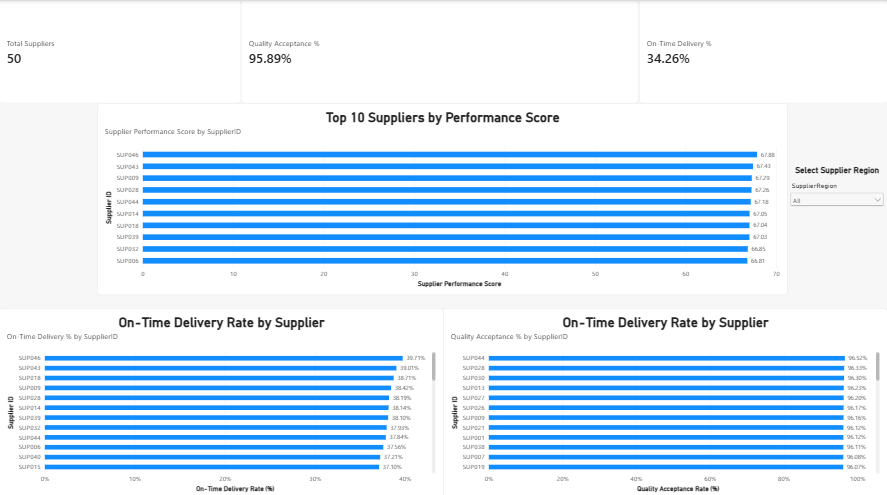

This screenshot's page, from the dashboard's own definition file:
{"tool":"powerbi","page":{"name":"Supplier Performance","canvas":[1920,1080],"ordinal":1},"visuals":[{"type":"cardVisual","fields":{"Data":["procurement_analytics suppliers.Total Suppliers"]},"box":[0,0,523.2,223.5],"z":0},{"type":"cardVisual","fields":{"Data":["procurement_analytics quality_inspection.Quality Acceptance %"]},"box":[523.2,0,858.4,223.5],"z":1},{"type":"cardVisual","fields":{"Data":["procurement_analytics deliveries.On-Time Delivery %"]},"box":[1381.6,0,538.4,223.5],"z":2},{"type":"clusteredBarChart","title":"\tTop 10 Suppliers by Performance Score","fields":{"Category":["procurement_analytics suppliers.SupplierID"],"Y":["procurement_analytics deliveries.Supplier Performance Score"]},"box":[212.2,222,1492.2,414.7],"z":3},{"type":"clusteredBarChart","title":"On-Time Delivery Rate by Supplier","fields":{"Category":["procurement_analytics suppliers.SupplierID"],"Y":["procurement_analytics deliveries.On-Time Delivery %"]},"box":[0,666.1,960,414.7],"z":4},{"type":"clusteredBarChart","title":"On-Time Delivery Rate by Supplier","fields":{"Category":["procurement_analytics suppliers.SupplierID"],"Y":["procurement_analytics quality_inspection.Quality Acceptance %"]},"box":[960,666.1,960,414.7],"z":5},{"type":"slicer","title":"Select Supplier Region","fields":{"Values":["procurement_analytics suppliers.SupplierRegion"]},"box":[1704.2,356.4,212.2,143.7],"z":6}]}

Visuals, with their boxes in screenshot pixels (x1, y1, x2, y2), scaled from the page's 1920x1080 canvas onto the 887x495 screenshot:
cardVisual - procurement_analytics suppliers.Total Suppliers: pyautogui.locateOnScreen(0, 0, 242, 102)
cardVisual - procurement_analytics quality_inspection.Quality Acceptance %: pyautogui.locateOnScreen(242, 0, 638, 102)
cardVisual - procurement_analytics deliveries.On-Time Delivery %: pyautogui.locateOnScreen(638, 0, 886, 102)
"	Top 10 Suppliers by Performance Score" clusteredBarChart: pyautogui.locateOnScreen(98, 102, 787, 292)
"On-Time Delivery Rate by Supplier" clusteredBarChart: pyautogui.locateOnScreen(0, 305, 444, 494)
"On-Time Delivery Rate by Supplier" clusteredBarChart: pyautogui.locateOnScreen(444, 305, 886, 494)
"Select Supplier Region" slicer: pyautogui.locateOnScreen(787, 163, 885, 229)
